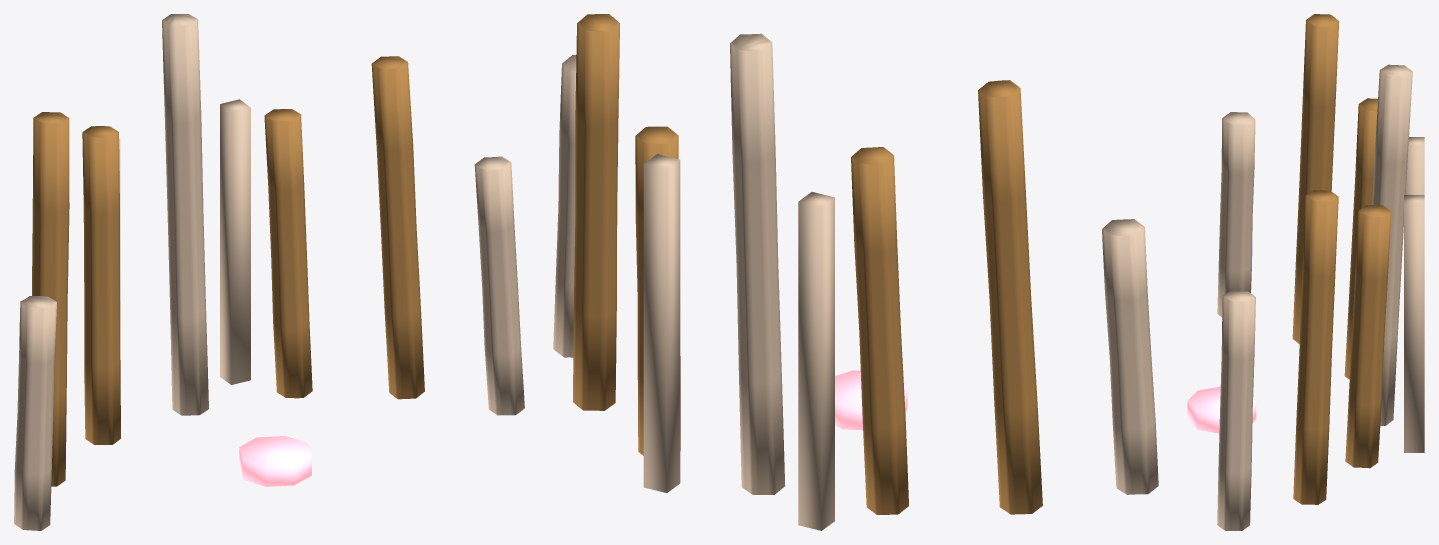
The model's file is culture-structures.glb.
3 views of the same model, side by side, from view 1: azimuth 30°, elevation 25°; view 2: azimuth 150°, elevation 25°; view 3: azimuth 270°, elevation 25° (orthographic). The views are drawn at different scales.
Parts seen in each view (by area): view 1: culture_pillar_3, culture_pillar_1, culture_pillar_4, culture_pillar_2, culture_pillar_0, culture_pillar_5, culture_arch_right, culture_pillar_6, culture_fire_bowl; view 2: culture_pillar_3, culture_pillar_5, culture_pillar_1, culture_pillar_4, culture_arch_right, culture_arch_left, culture_pillar_6, culture_pillar_0, culture_pillar_2, culture_fire_bowl; view 3: culture_pillar_1, culture_pillar_2, culture_pillar_0, culture_pillar_3, culture_pillar_5, culture_pillar_6, culture_arch_right, culture_pillar_4, culture_fire_bowl, culture_arch_left.
Part boxes in pixels (bbox=[...]): culture_pillar_3: bbox=[162, 14, 208, 415]; culture_pillar_1: bbox=[371, 56, 424, 399]; culture_pillar_4: bbox=[82, 126, 120, 444]; culture_pillar_2: bbox=[264, 109, 312, 398]; culture_pillar_0: bbox=[474, 156, 524, 415]; culture_pillar_5: bbox=[32, 112, 69, 486]; culture_arch_right: bbox=[220, 99, 250, 384]; culture_pillar_6: bbox=[14, 296, 56, 530]; culture_fire_bowl: bbox=[239, 436, 311, 486]; culture_pillar_3: bbox=[730, 33, 785, 494]; culture_pillar_5: bbox=[978, 80, 1042, 514]; culture_pillar_1: bbox=[573, 14, 619, 410]; culture_pillar_4: bbox=[851, 147, 908, 514]; culture_arch_right: bbox=[643, 154, 680, 492]; culture_arch_left: bbox=[798, 192, 834, 530]; culture_pillar_6: bbox=[1102, 219, 1158, 494]; culture_pillar_0: bbox=[553, 55, 576, 357]; culture_pillar_2: bbox=[635, 126, 680, 455]; culture_fire_bowl: bbox=[835, 370, 907, 430]; culture_pillar_1: bbox=[1293, 190, 1338, 504]; culture_pillar_2: bbox=[1345, 205, 1391, 468]; culture_pillar_0: bbox=[1217, 290, 1255, 530]; culture_pillar_3: bbox=[1372, 64, 1412, 425]; culture_pillar_5: bbox=[1292, 14, 1339, 343]; culture_pillar_6: bbox=[1217, 112, 1255, 317]; culture_arch_right: bbox=[1404, 195, 1424, 452]; culture_pillar_4: bbox=[1344, 98, 1377, 379]; culture_fire_bowl: bbox=[1187, 386, 1256, 433]; culture_arch_left: bbox=[1405, 137, 1424, 194].
Bounding box in the file's own units: 3.85 × 2.81 × 1.73.
